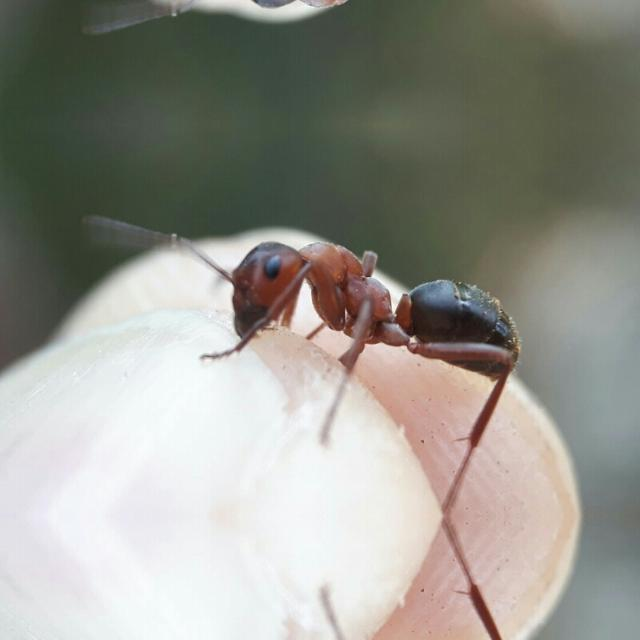Formica: (157, 190, 555, 424), (157, 0, 555, 58)
